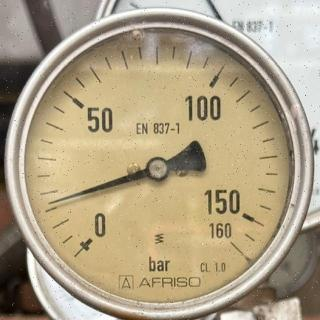gauge: (0, 0, 320, 320), (65, 210, 115, 266), (206, 220, 256, 264), (144, 155, 170, 183), (45, 196, 59, 208)
